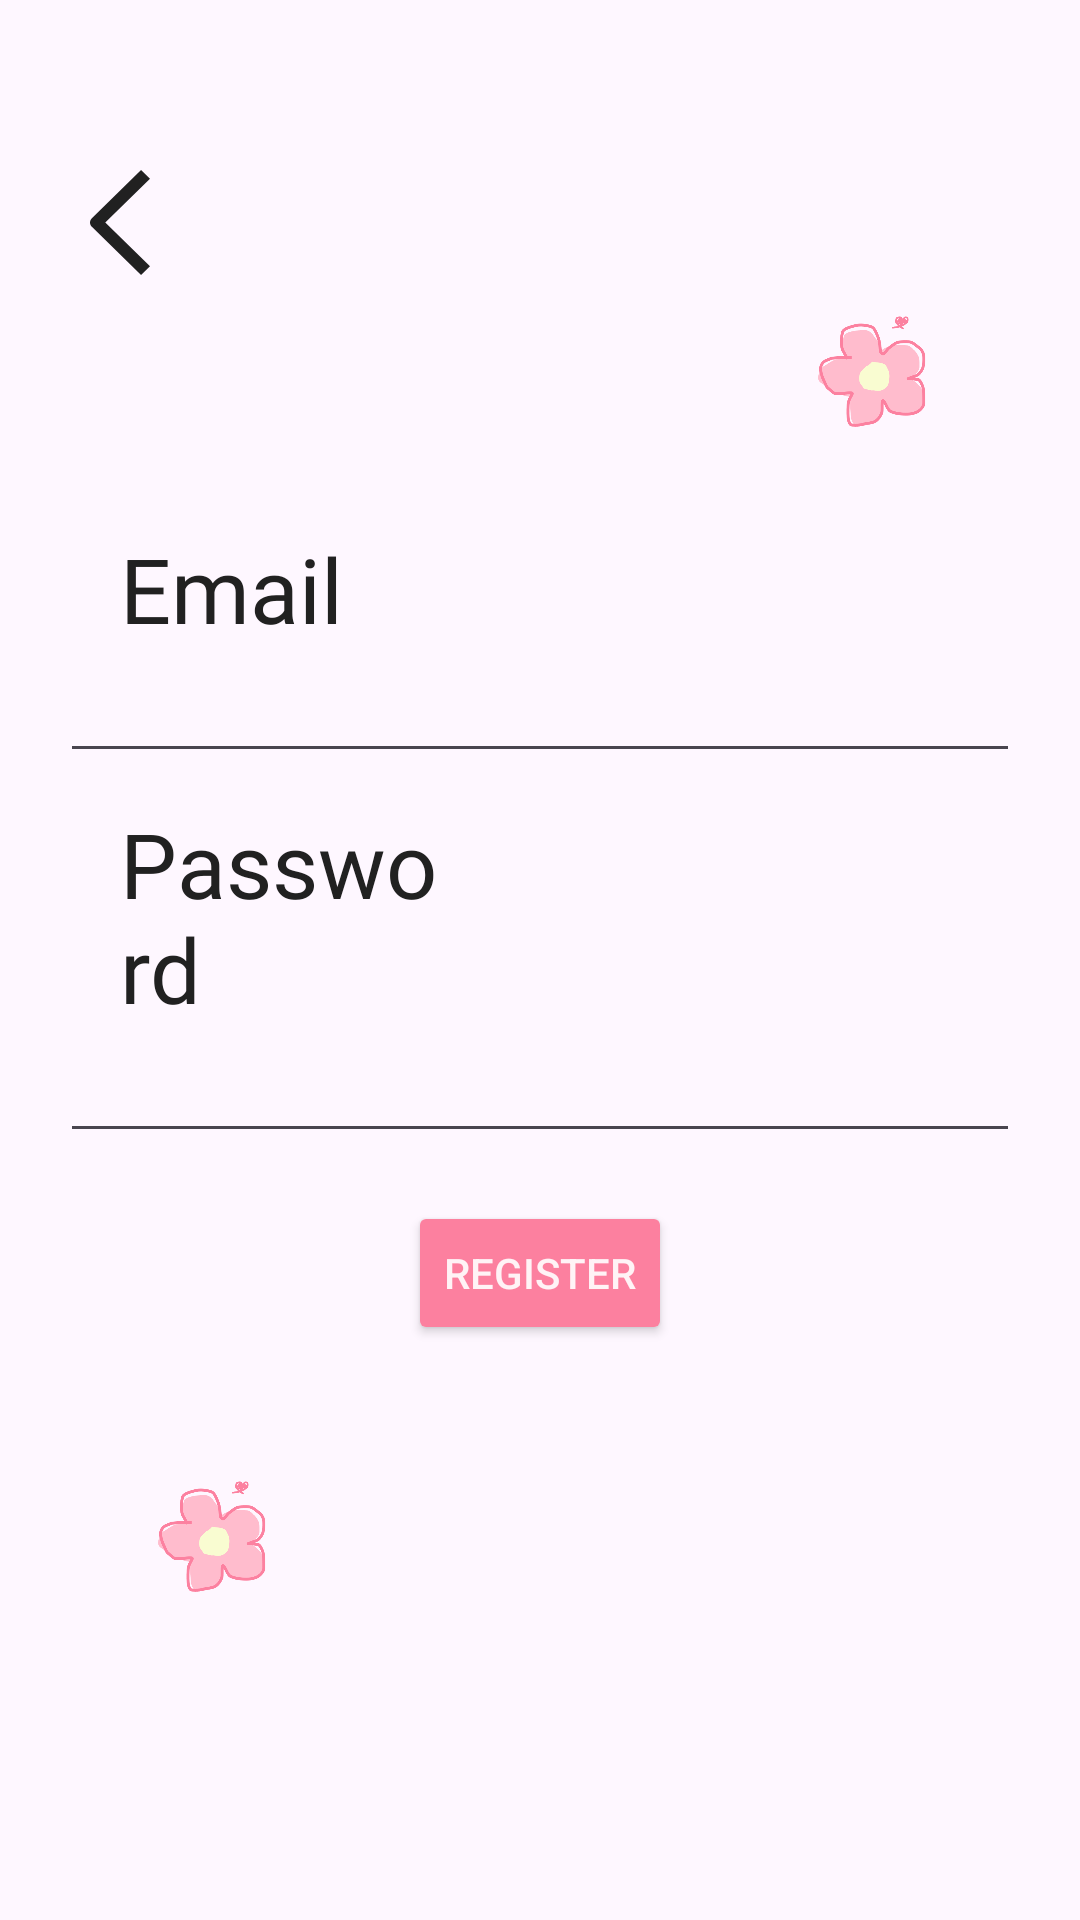

Locate icon controls on the screen. Image size 1080px×1920px, boxes as (x1, y1, x2, y2).
back: (90, 170, 150, 275)
daily bloom: (818, 316, 925, 427), (158, 1481, 265, 1592)
